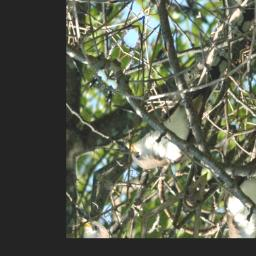Cuckoo: (117, 20, 243, 192)
